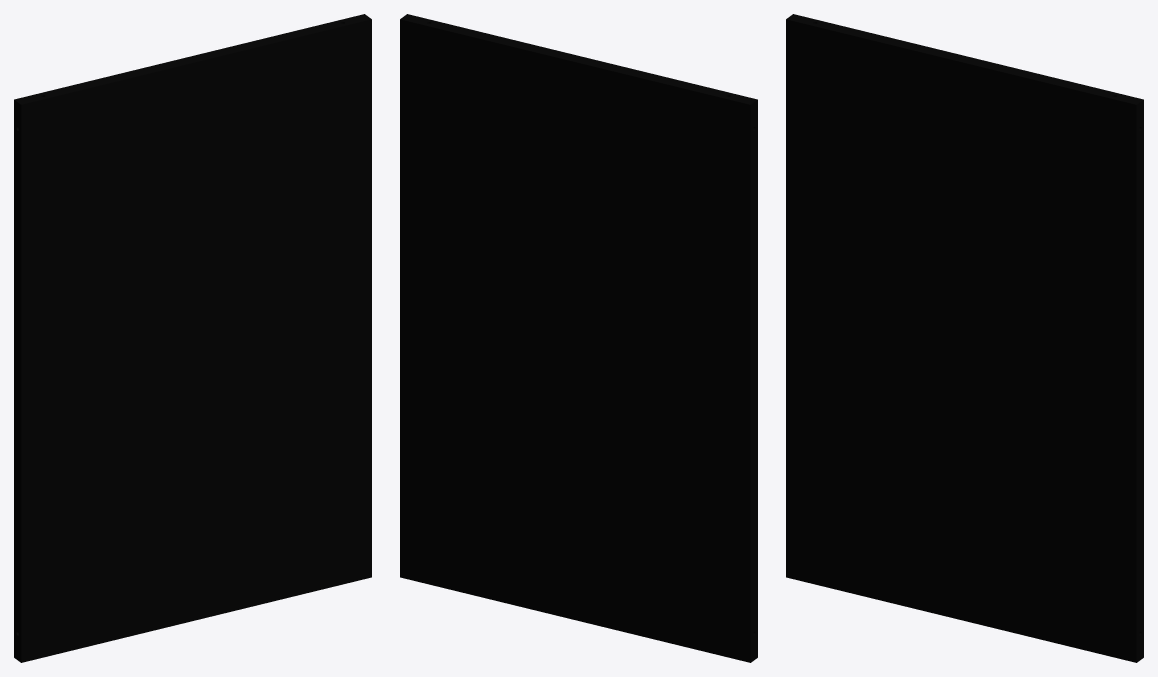
The model's file is Door_Panel_847x557.glb.
The picture shows the model from 3 angles, left to right: view 1: azimuth 30°, elevation 25°; view 2: azimuth 150°, elevation 25°; view 3: azimuth 330°, elevation 25°; orthographic projection.
Parts seen in each view (by area): view 1: Door_Panel_847x557; view 2: Door_Panel_847x557; view 3: Door_Panel_847x557.
Part boxes in pixels (x1,y1,x2,y2): Door_Panel_847x557: (14, 14, 371, 662); Door_Panel_847x557: (400, 14, 757, 662); Door_Panel_847x557: (786, 14, 1143, 662).
Size of the model in its own units: 0.557 by 0.847 by 0.02.
Materials: 1 (1 with a texture image).
